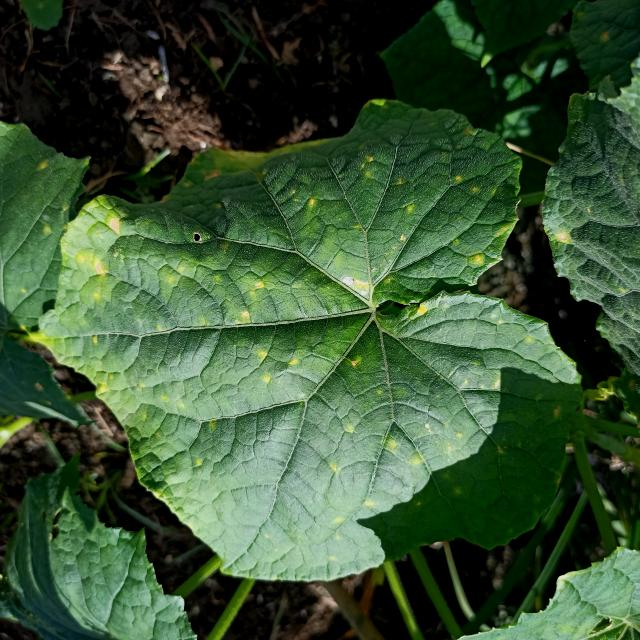disease_cucumber: (61, 186, 284, 430), (314, 396, 480, 536), (400, 162, 498, 272)
